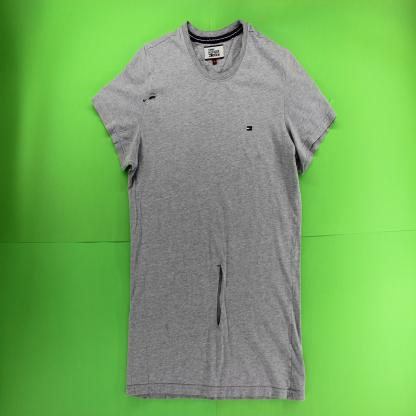hole: (216, 262, 224, 328), (141, 92, 159, 104)
